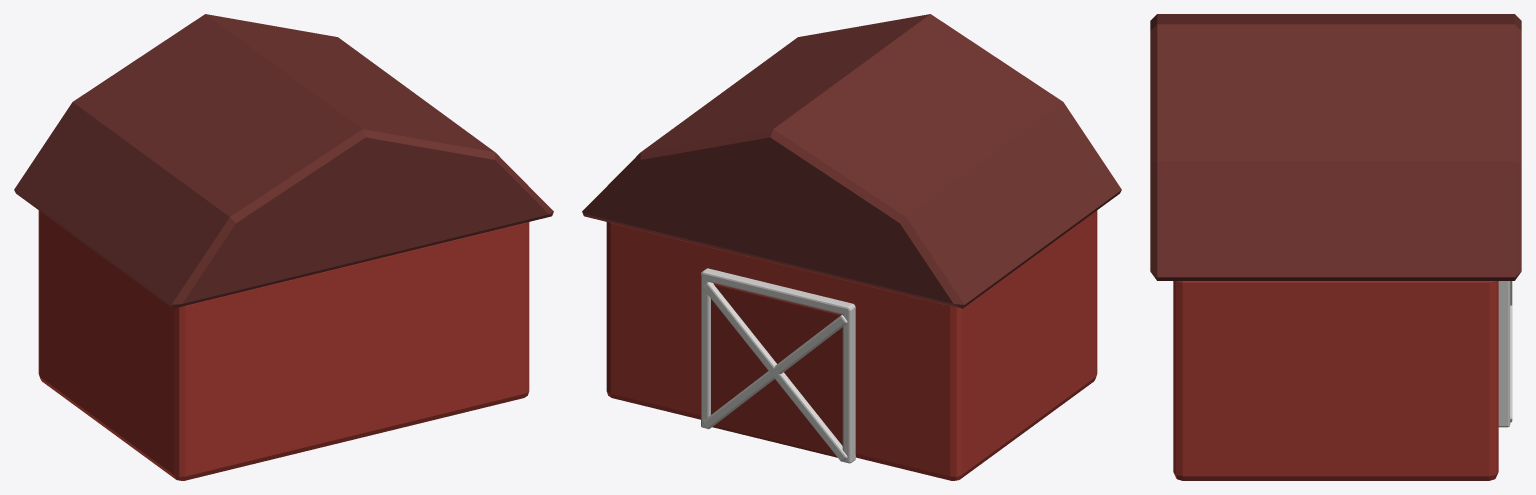
File: barn.fbx
3 views of the same model, side by side, from view 1: azimuth 30°, elevation 25°; view 2: azimuth 150°, elevation 25°; view 3: azimuth 270°, elevation 25° (orthographic). The views are drawn at different scales.
Visible parts, largest first — view 1: barn; view 2: barn; view 3: barn.
Part boxes in pixels (<box>): barn: <box>14,14,553,480</box>; barn: <box>582,14,1121,480</box>; barn: <box>1150,14,1521,480</box>.
Size of the model in its own units: 2.16 by 1.72 by 1.6.
